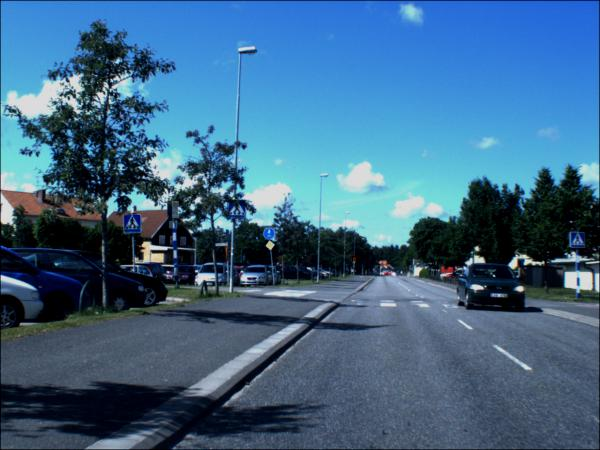PEDESTRIAN_CROSSING: (228, 201, 246, 218), (124, 217, 141, 235), (571, 234, 587, 250), (172, 202, 180, 220)
PRIORITY_ROAD: (265, 242, 277, 252), (353, 263, 357, 266)
WARNING: (352, 257, 358, 263)
